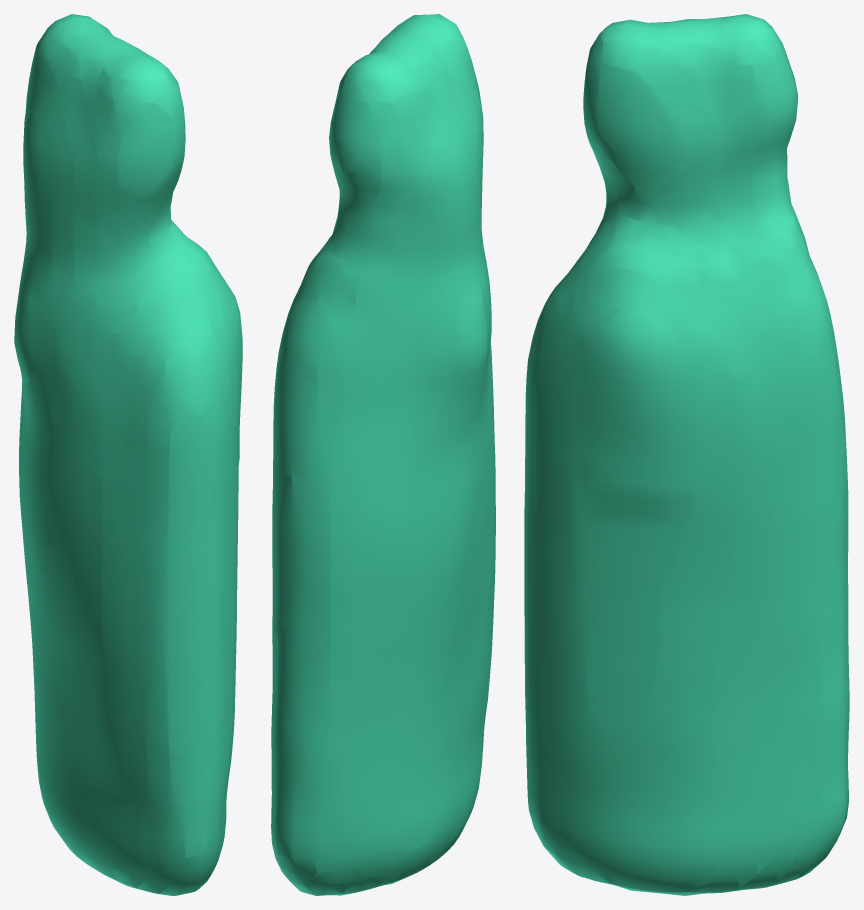
3 renders of one model, left to right at view 1: azimuth 30°, elevation 25°; view 2: azimuth 150°, elevation 25°; view 3: azimuth 270°, elevation 25°, orthographic. The views are drawn at different scales.
Visible parts, largest first — view 1: Liquid_Domain; view 2: Liquid_Domain; view 3: Liquid_Domain.
Boxes of the visible parts, x1=… form: Liquid_Domain: x1=14, y1=14, x2=242, y2=895; Liquid_Domain: x1=271, y1=14, x2=495, y2=895; Liquid_Domain: x1=524, y1=14, x2=849, y2=895.
Size of the model in its own units: 1.67 by 7.01 by 2.44.
